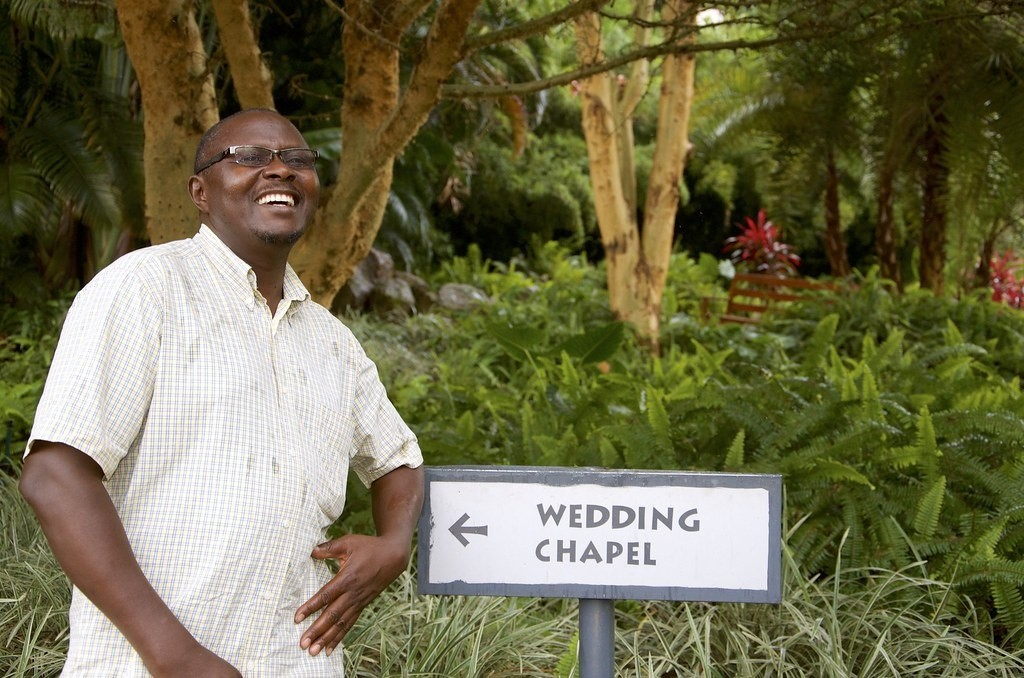face_no_mask: (199, 107, 320, 257)
